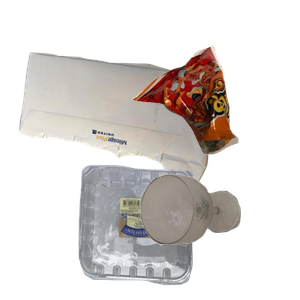glass: (138, 172, 300, 300)
paper: (17, 50, 231, 230)
plastic: (76, 162, 264, 300)
trash: (130, 43, 300, 190)
